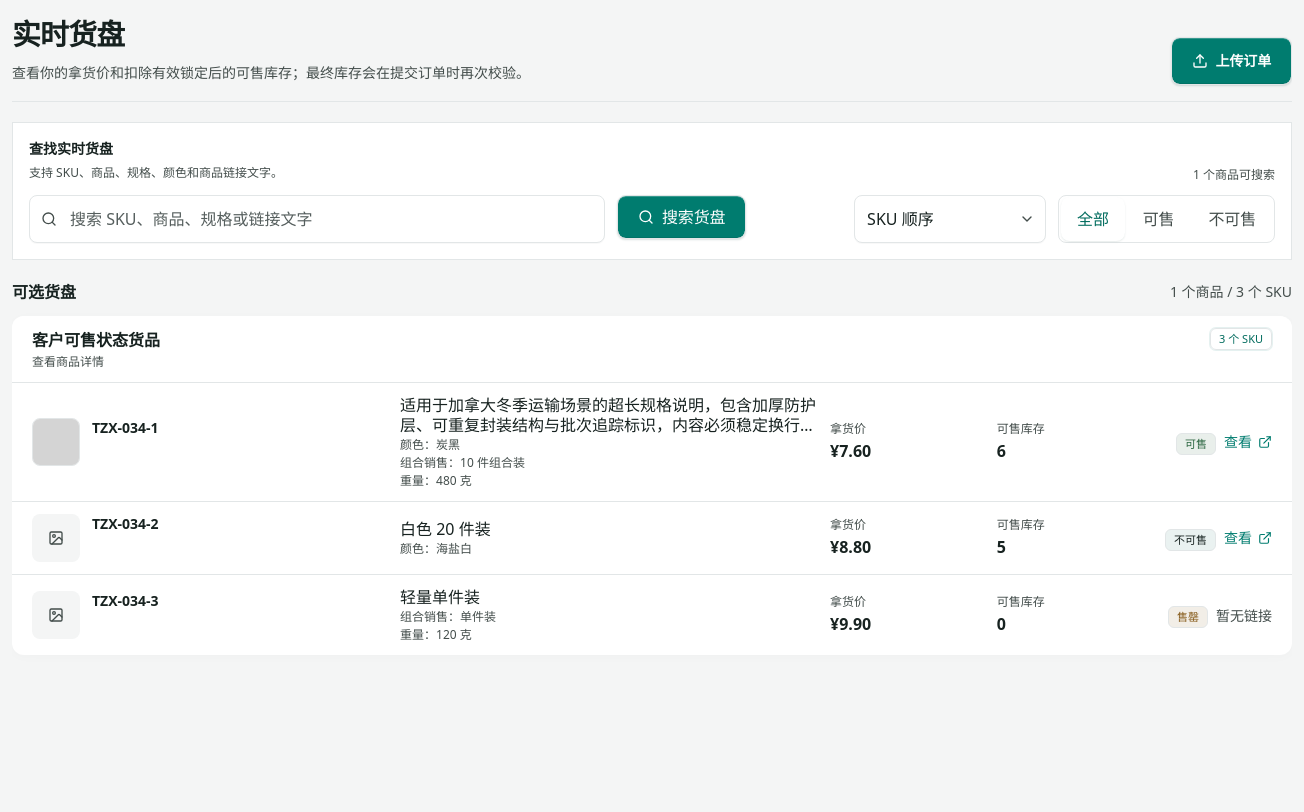
Scenario: catalog workspaces › filters customer catalog variants by availability while retaining detailed unavailable reasons
Expected: the element named "销售状态筛选" is shown, [1058,195,1275,243]
Click the button with aria-label "只看不可售 SKU". click: click(1232, 219)
box: [1192,197,1272,241]
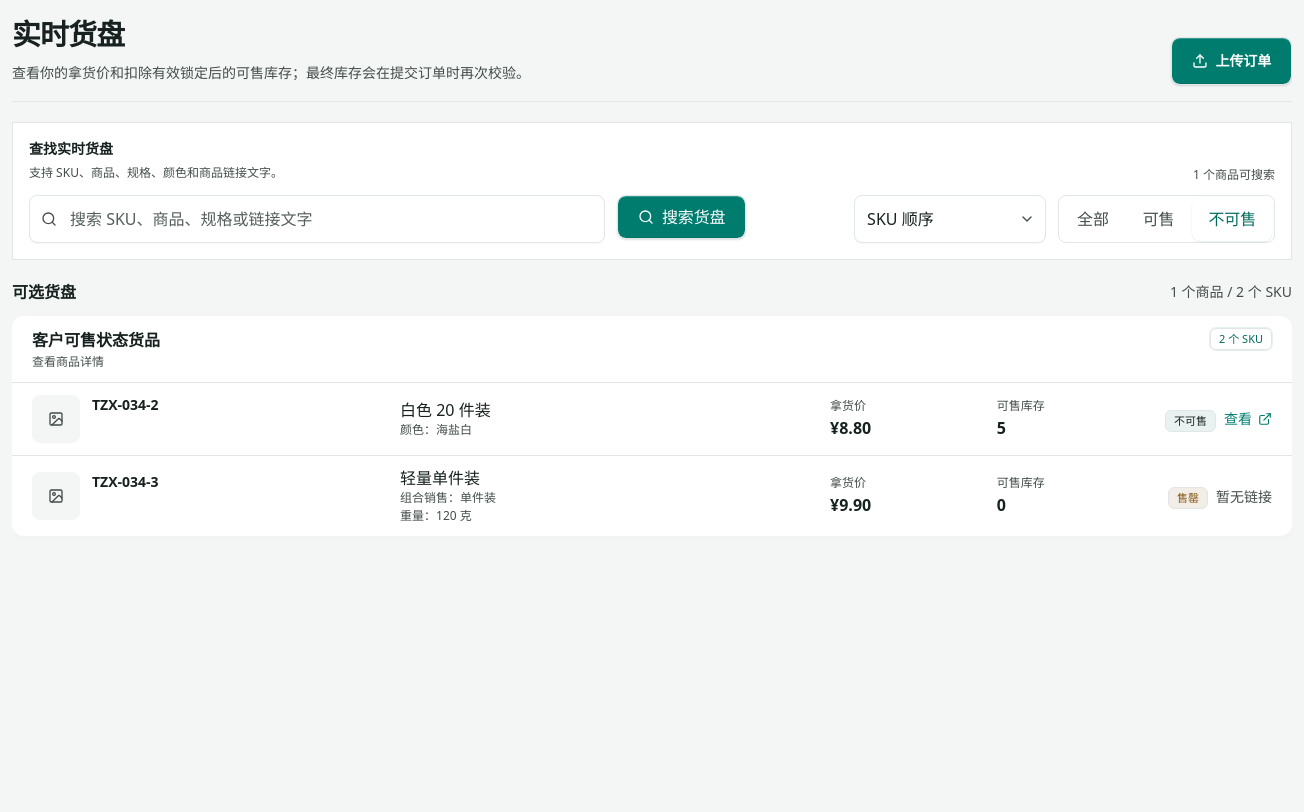
Expected: the text "TZX-034-1" is gone
Expected: the text "TZX-034-2" is shown once, [92,395,159,415]
Expected: the text "TZX-034-3" is shown once, [92,472,159,492]
